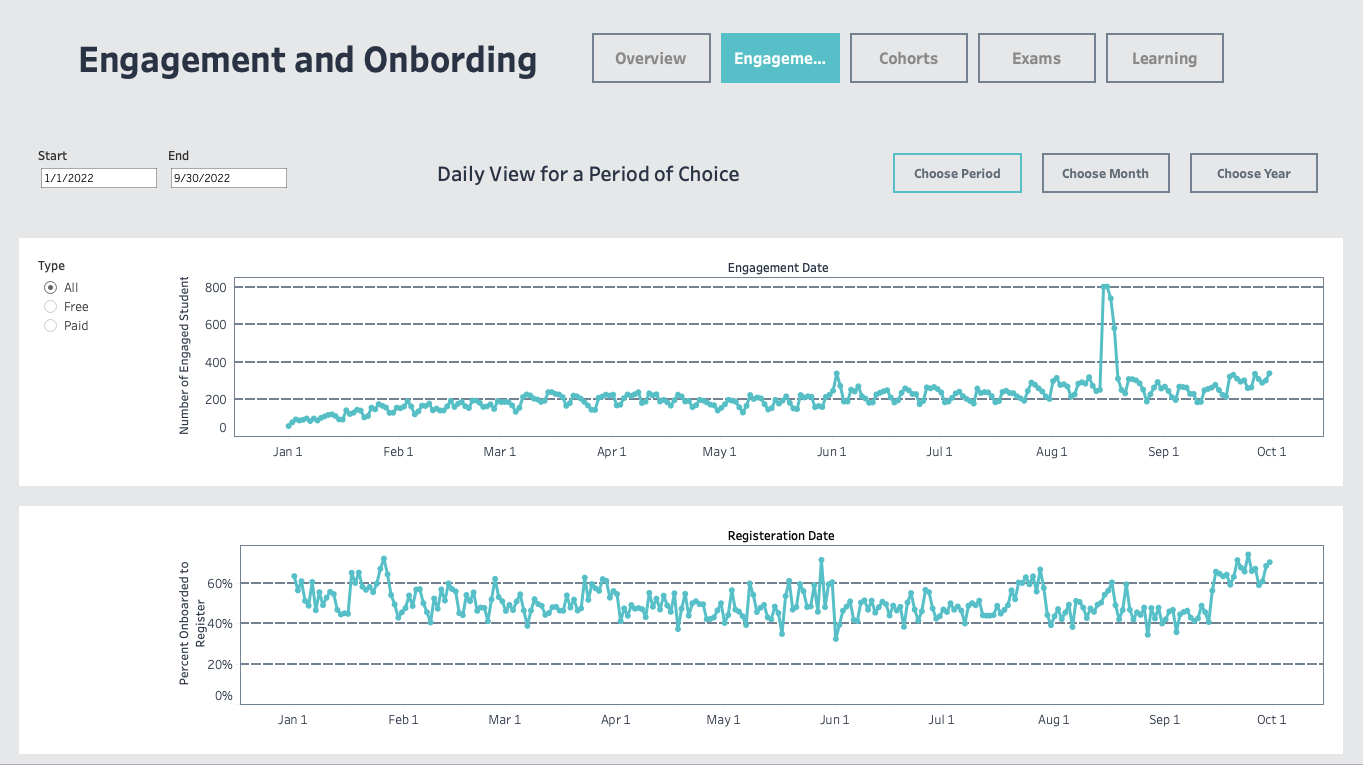

The page's visual inventory and layout, read from the dashboard file:
{"tool":"tableau","page":{"name":"Engagement Date","canvas":[1366,768],"ordinal":1},"visuals":[{"type":"text","box":[36,26,548,70]},{"type":"dashboard-object","box":[589,31,129,60]},{"type":"dashboard-object","box":[718,31,129,60]},{"type":"dashboard-object","box":[847,31,128,60]},{"type":"dashboard-object","box":[975,31,128,60]},{"type":"dashboard-object","box":[1103,31,128,60]},{"type":"parameter","param":"[Parameters].[Minimum Engagement Date (copy)_11259033777938436]","box":[36,146,130,60]},{"type":"parameter","param":"[Parameters].[Maximum Engagement Date (copy)_11259033777913859]","box":[166,146,130,60]},{"type":"text","box":[296,146,589,60]},{"type":"dashboard-object","box":[885,146,149,60]},{"type":"dashboard-object","box":[1034,146,148,60]},{"type":"dashboard-object","box":[1182,146,148,60]},{"type":"parameter","param":"[Parameters].[Student Type (copy)_11259033778130949]","box":[21,241,130,248]},{"type":"worksheet","title":"engagement date","mark":"Automatic","rows":["student_id"],"cols":["Calculation_11259033777659906","date_engaged"],"box":[151,241,1194,248]},{"type":"blank","box":[21,509,130,248]},{"type":"worksheet","title":"onborading date","mark":"Automatic","rows":["Calculation_11259033779355657"],"cols":["Calculation_81487040486006786","date_registered"],"box":[151,509,1194,248]}]}

Visuals, with their boxes in screenshot pixels (x1, y1, x2, y2), scaled from the page's 1366x768 canvas onto the 1363x767 screenshot:
text: (36, 26, 583, 96)
dashboard-object: (588, 31, 716, 91)
dashboard-object: (716, 31, 845, 91)
dashboard-object: (845, 31, 973, 91)
dashboard-object: (973, 31, 1101, 91)
dashboard-object: (1101, 31, 1228, 91)
parameter: (36, 146, 166, 206)
parameter: (166, 146, 295, 206)
text: (295, 146, 883, 206)
dashboard-object: (883, 146, 1032, 206)
dashboard-object: (1032, 146, 1179, 206)
dashboard-object: (1179, 146, 1327, 206)
parameter: (21, 241, 151, 488)
"engagement date" worksheet: (151, 241, 1342, 488)
blank: (21, 508, 151, 756)
"onborading date" worksheet: (151, 508, 1342, 756)
